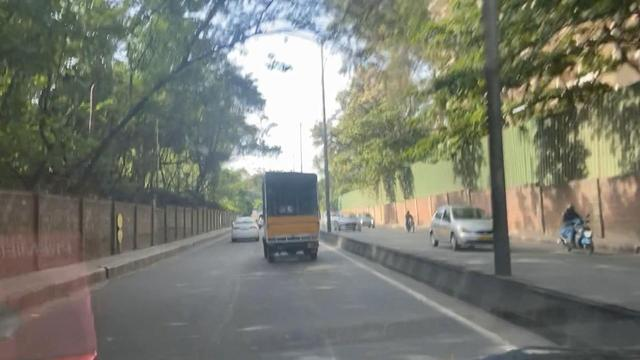HMV: (255, 171, 324, 277)
